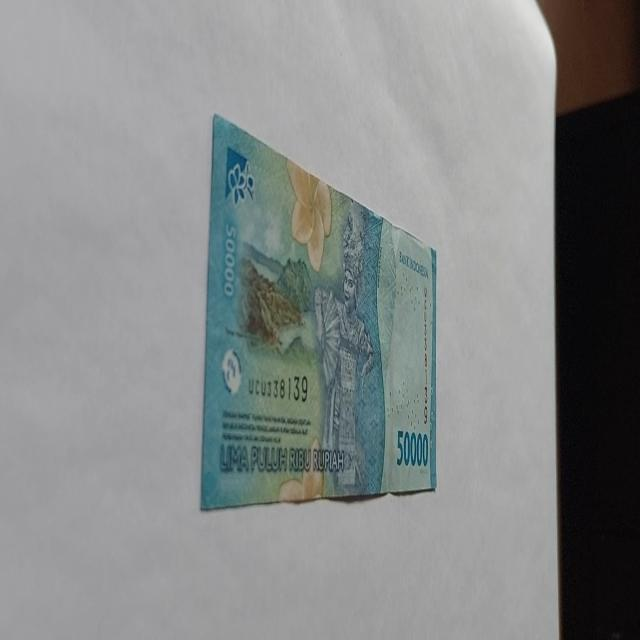lima puluh ribu rupiah: (199, 112, 438, 511)
